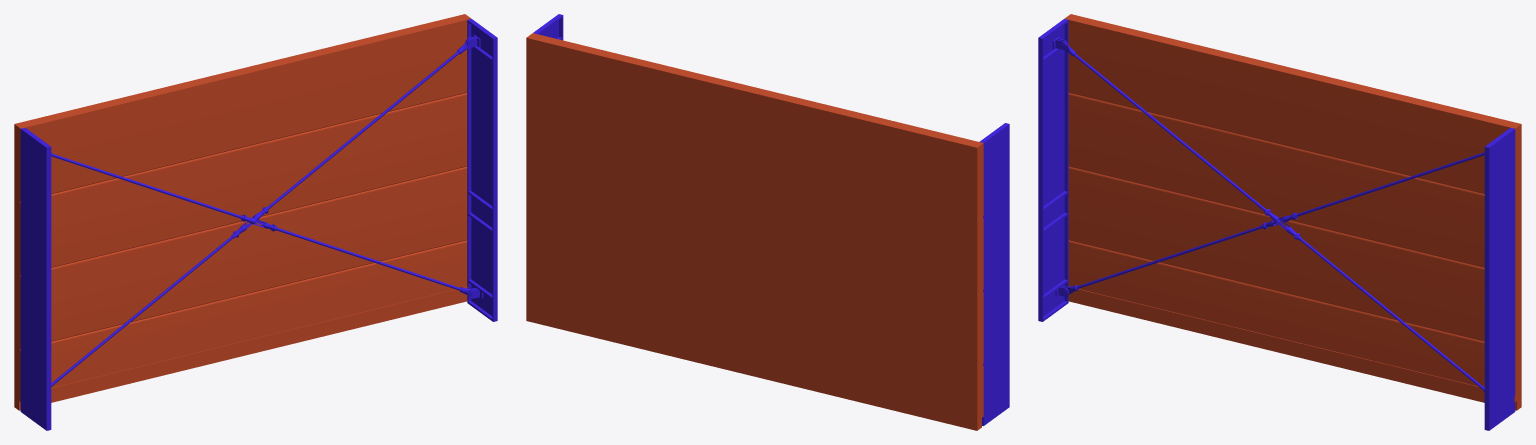
The model's file is Wall_C.glb.
3 renders of one model, left to right at view 1: azimuth 30°, elevation 25°; view 2: azimuth 150°, elevation 25°; view 3: azimuth 330°, elevation 25°, orthographic.
Visible parts, largest first — view 1: Wall_C; view 2: Wall_C; view 3: Wall_C.
Boxes of the visible parts, x1=… form: Wall_C: x1=14, y1=14, x2=497, y2=430; Wall_C: x1=526, y1=14, x2=1009, y2=430; Wall_C: x1=1038, y1=14, x2=1521, y2=430.
Bounding box in the file's own units: 10 × 6 × 1.25.
